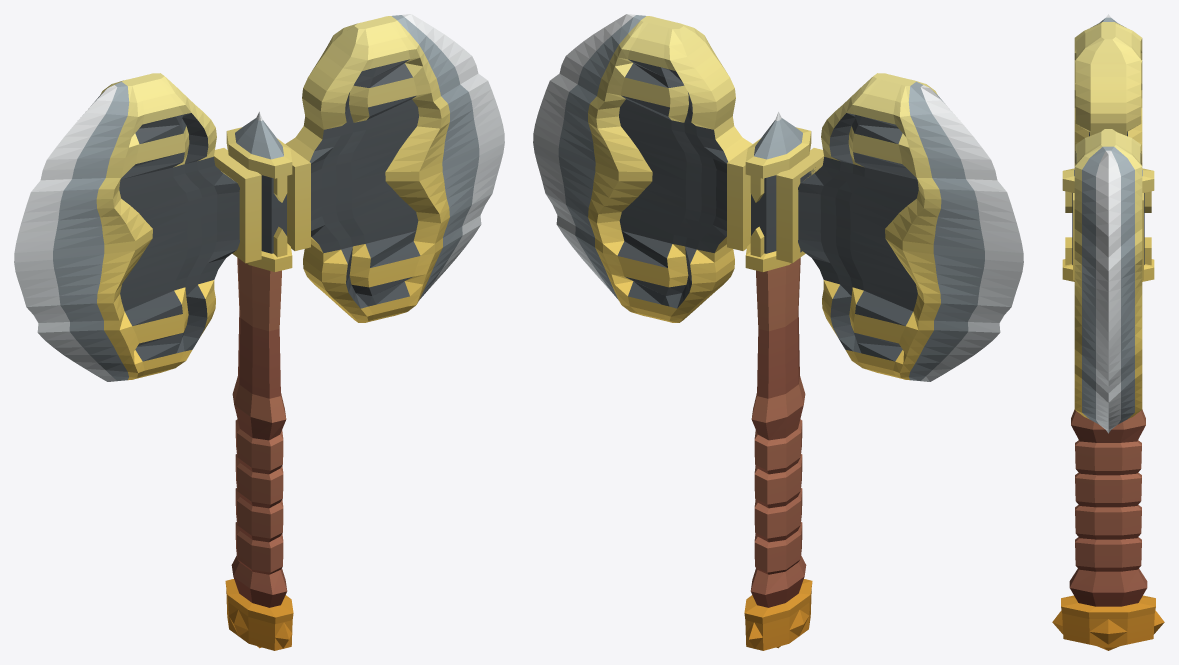
Rendered from source.glb.
3 renders of one model, left to right at view 1: azimuth 30°, elevation 25°; view 2: azimuth 150°, elevation 25°; view 3: azimuth 270°, elevation 25°, orthographic. The views are drawn at different scales.
Visible parts, largest first — view 1: model; view 2: model; view 3: model.
Part boxes in pixels (x1=…): model: x1=14, y1=14, x2=504, y2=650; model: x1=533, y1=14, x2=1023, y2=650; model: x1=1052, y1=14, x2=1164, y2=650.
Bounding box in the file's own units: 1.72 × 2 × 0.36.
1 material, 1 textured.
